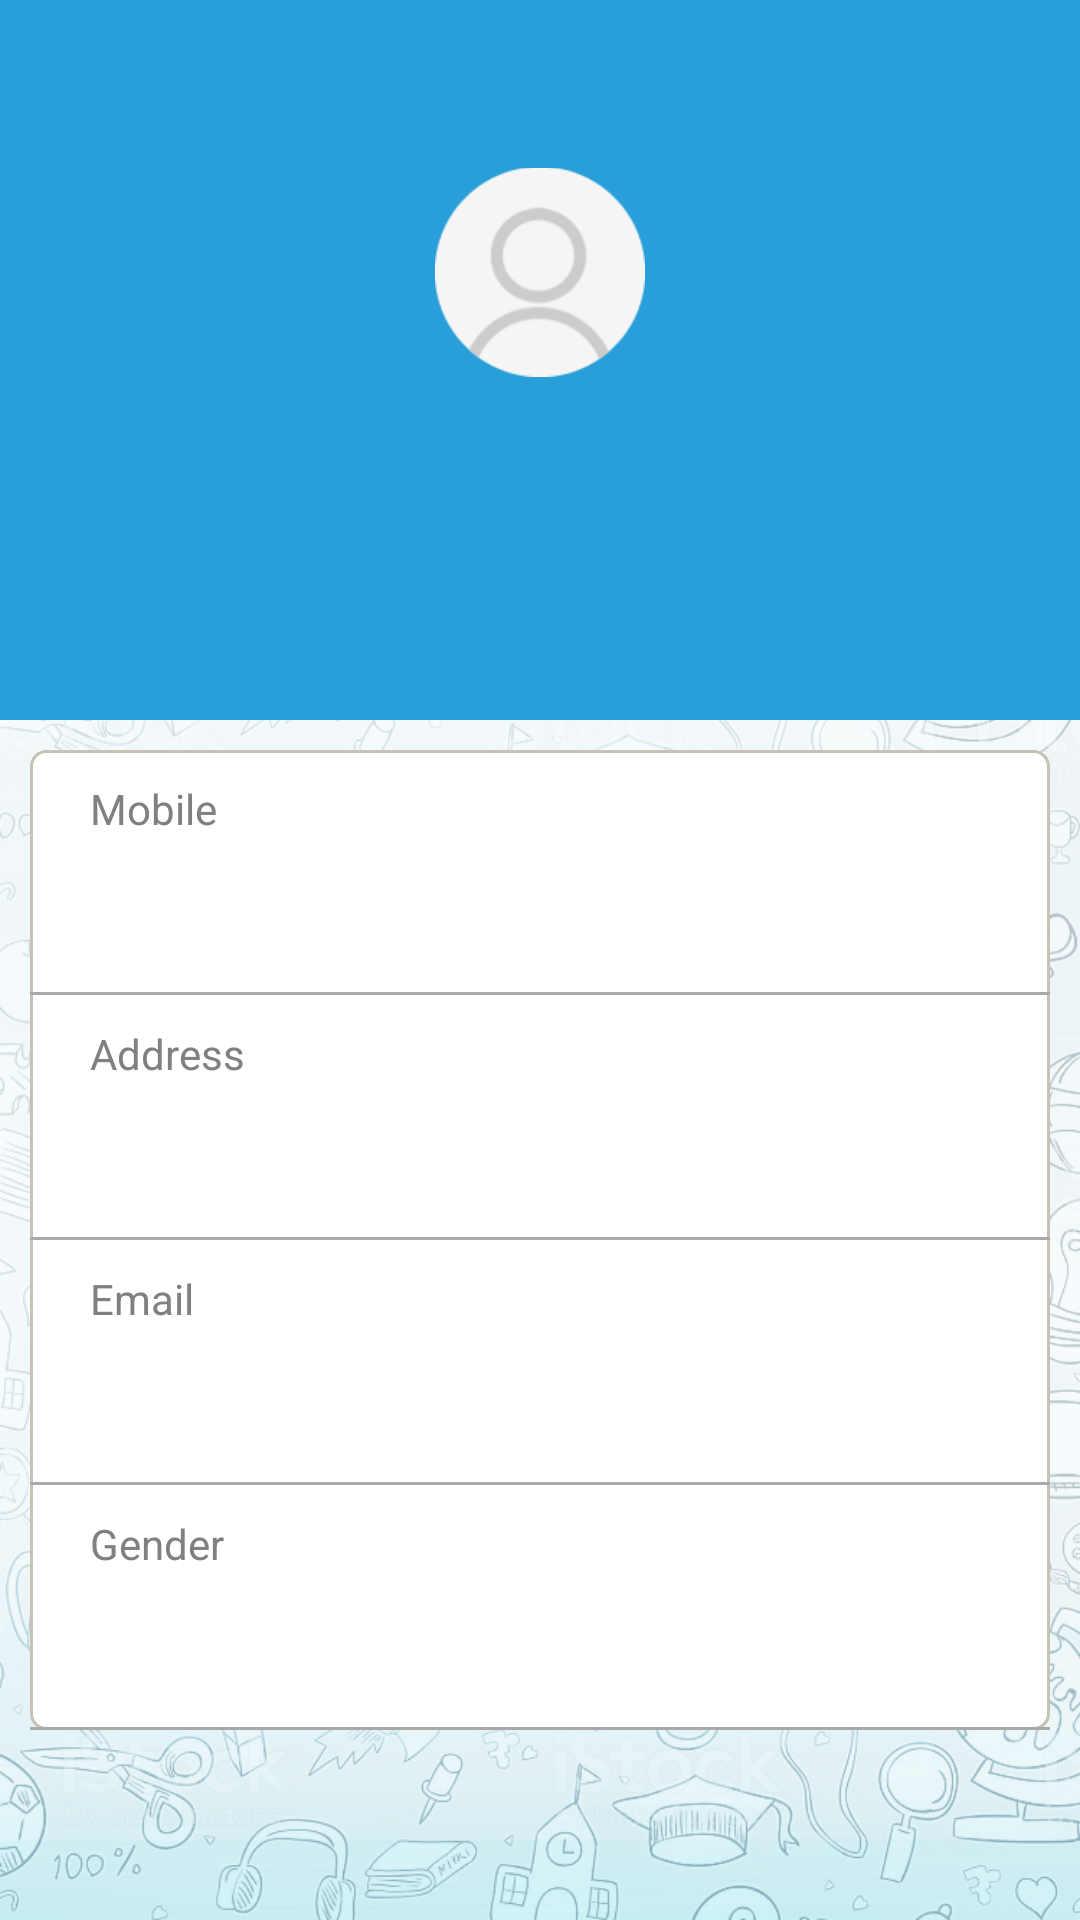

Screen size 1080×1920. Icon name, then its center in pixels as (x,y):
profile: (540,272)
